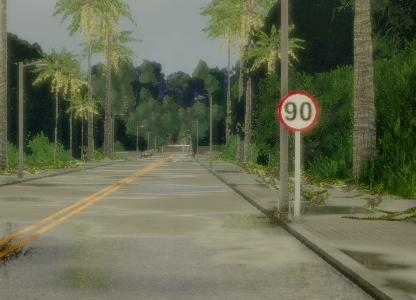Speed_90: (276, 88, 321, 131)
